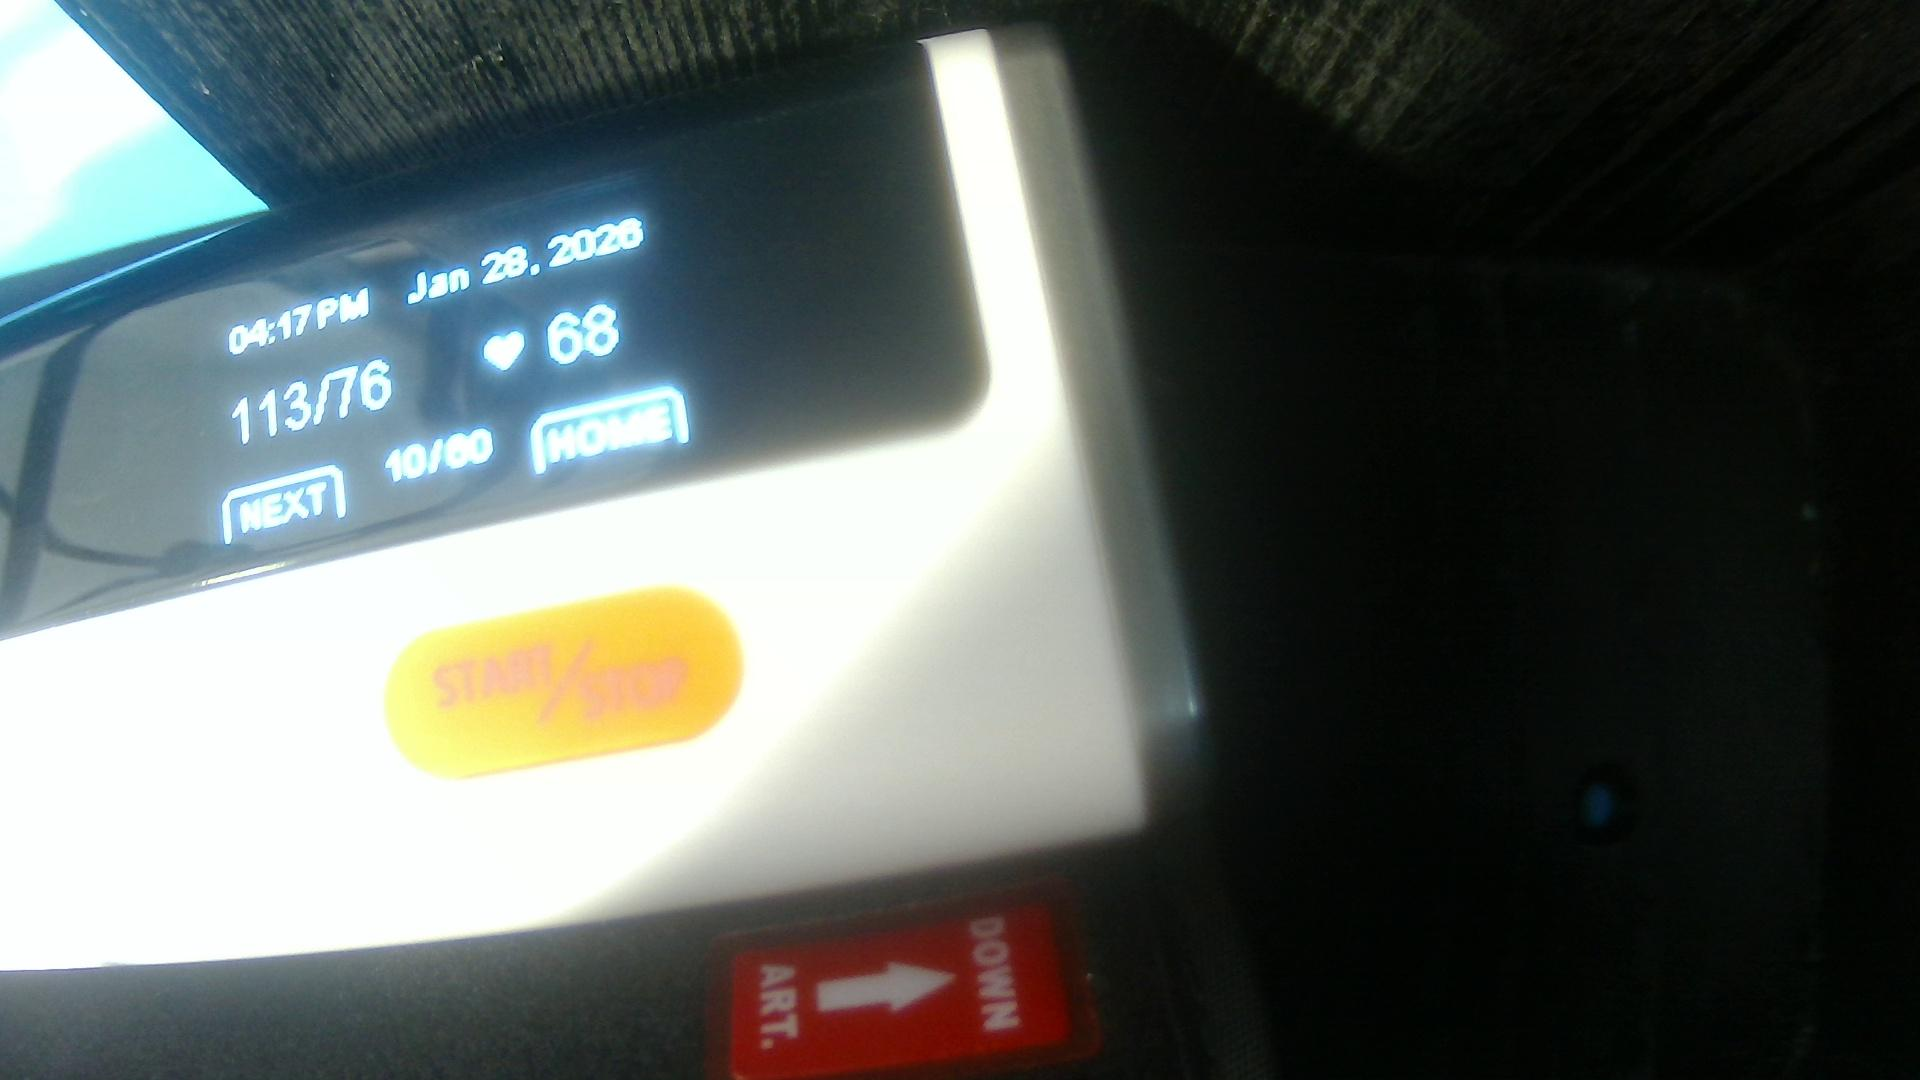DISPLAY: (1, 25, 982, 638)
